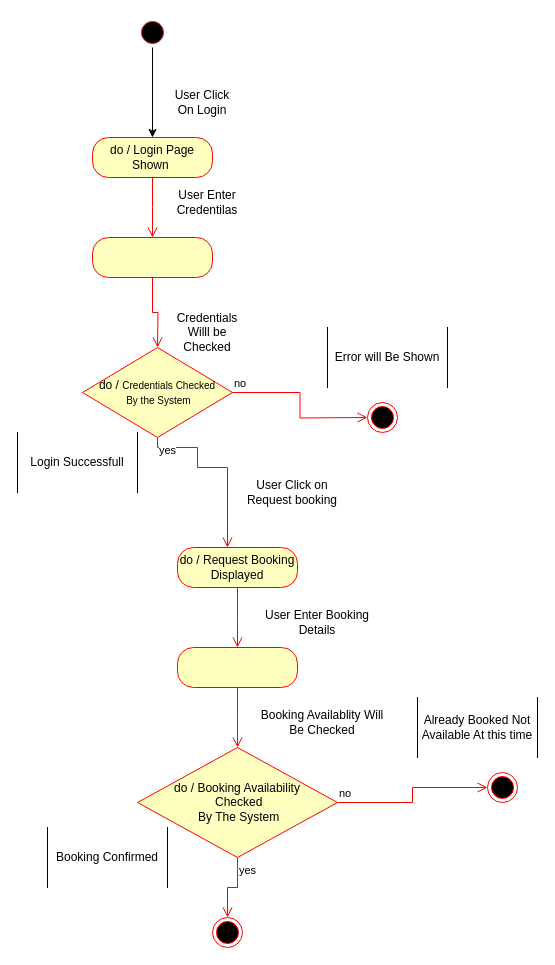
Some shapes in this 555 by 965 pixel diagram are drawn without their labels. Here are the shapes that lost their labels. From the top down, the centre of each, then its label:
At pixel 152 257: "do / User Credentials Entered".
At pixel 237 667: "do / Booking Details Entered".
